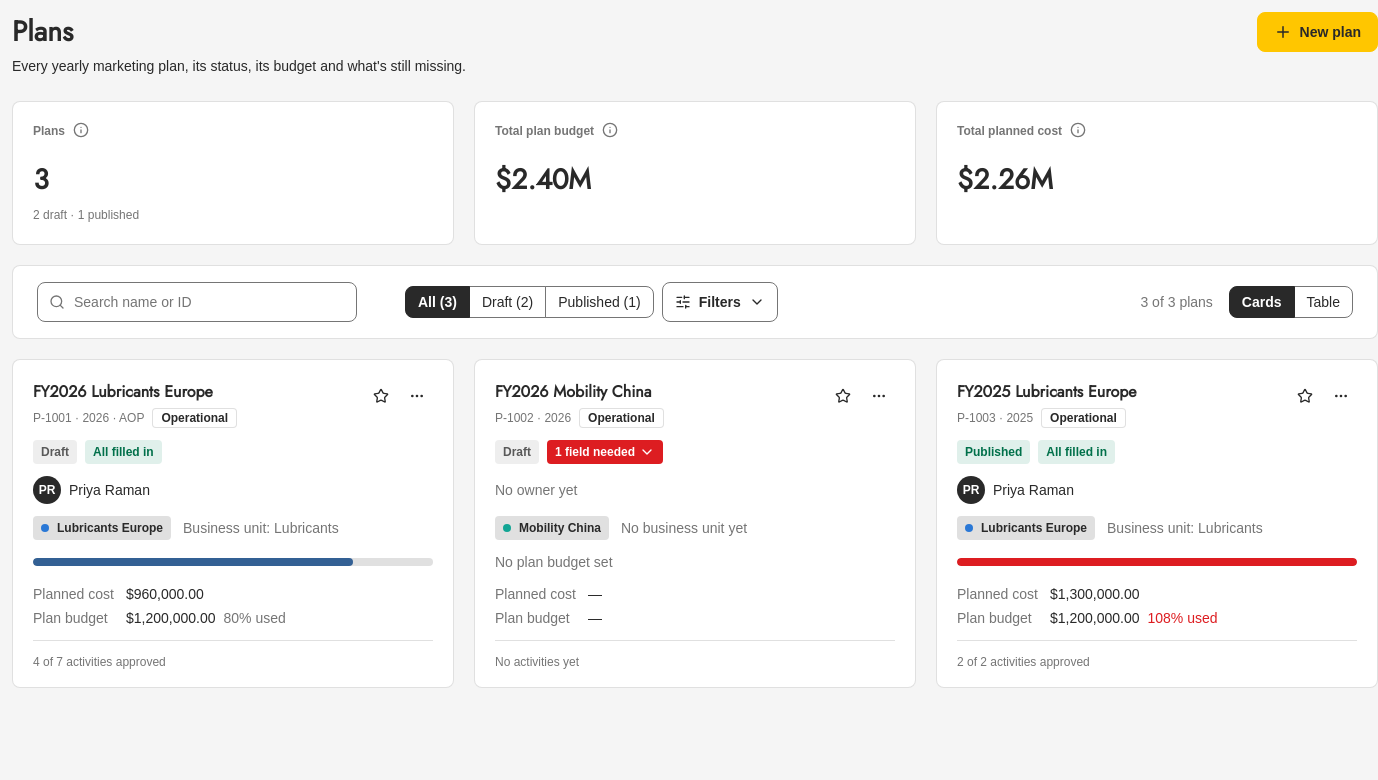
Test case: PlansPage (US2, FR-001 – FR-004) › searches name or ID once typing stops (US2#3)
Type "mobility" into the search field named "Search plans" at x=197, y=302, box left=37, top=282, right=357, bottom=322
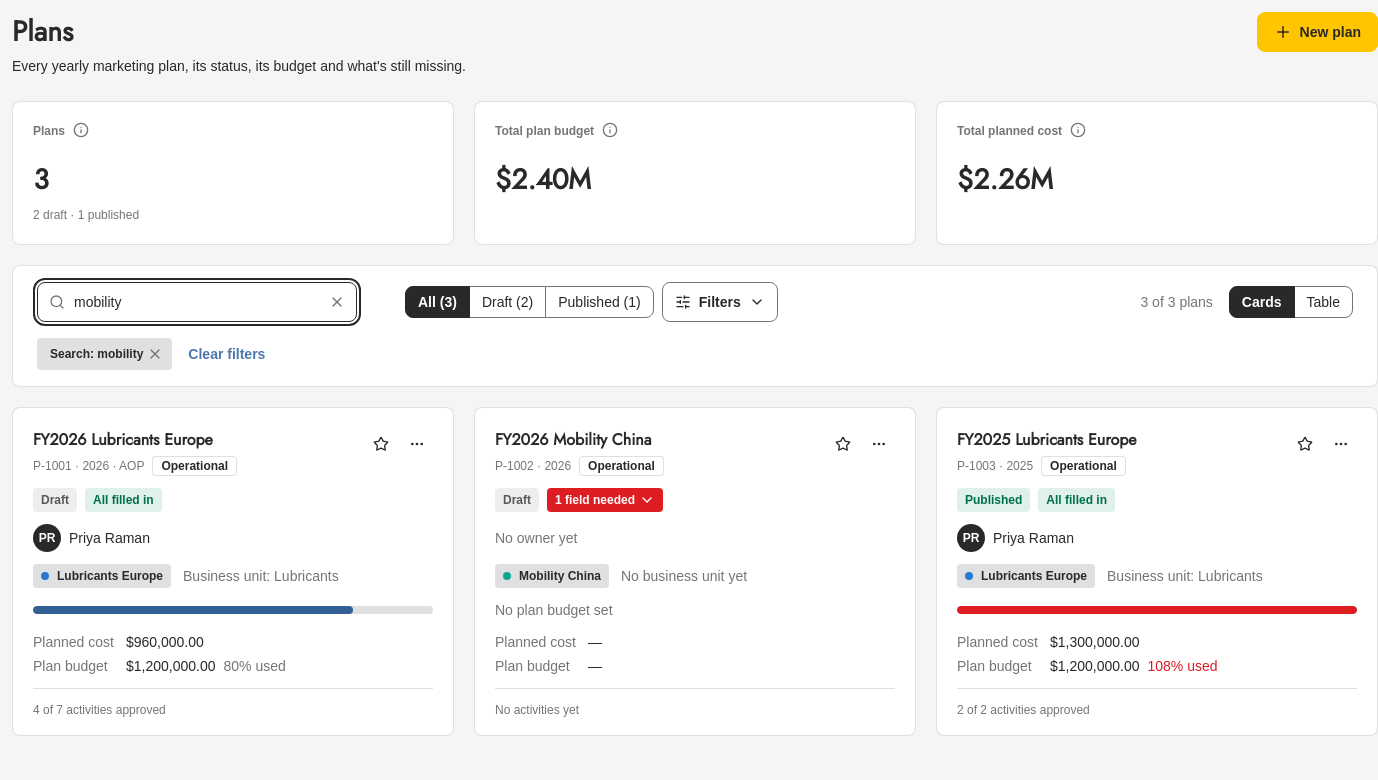
Now the button with aria-label "Remove filter: Search: mobility" is shown, box left=37, top=338, right=172, bottom=370
